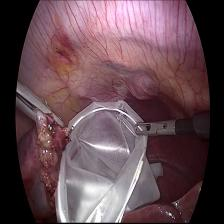Grasper: (14, 79, 63, 139), (134, 119, 178, 139)
Specimen Bag: (58, 104, 143, 224)
